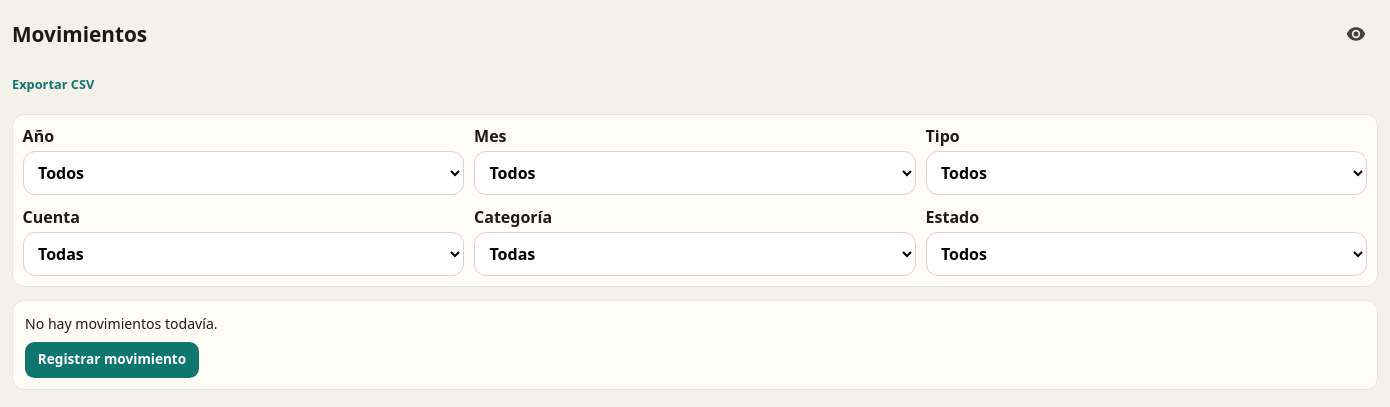
Test: TransactionsPage › switches the empty copy when filters are active
Expected: the text "No hay movimientos todavía." is shown, [25,312,218,334]
Select "Junio" in the dropdown labelled "Mes" at (695, 173), box [474,151,916,195]
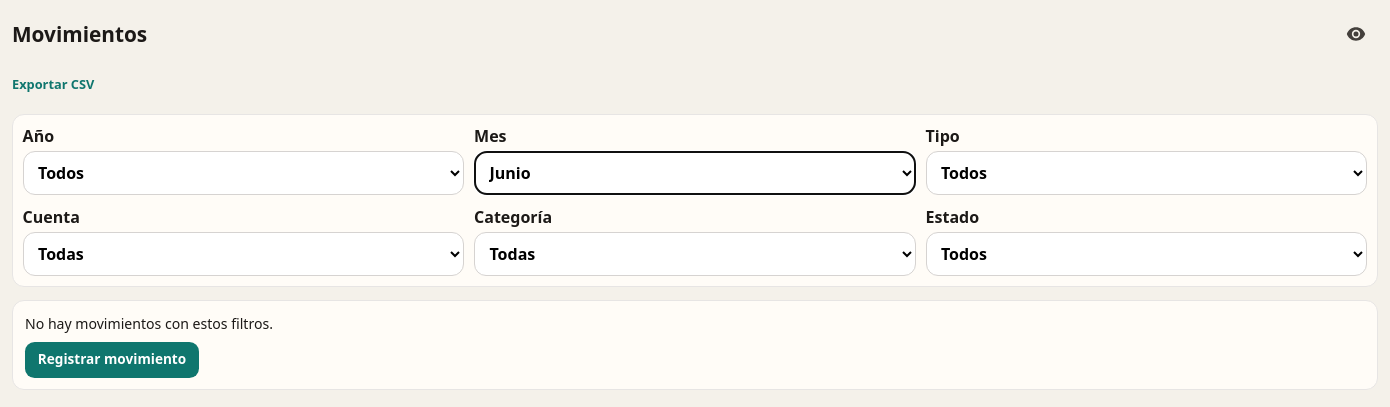
Expected: the text "No hay movimientos con estos filtros." is shown, [25,312,273,334]
